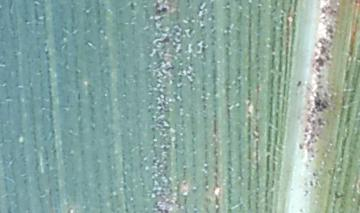tarspot: (154, 6, 167, 15)
